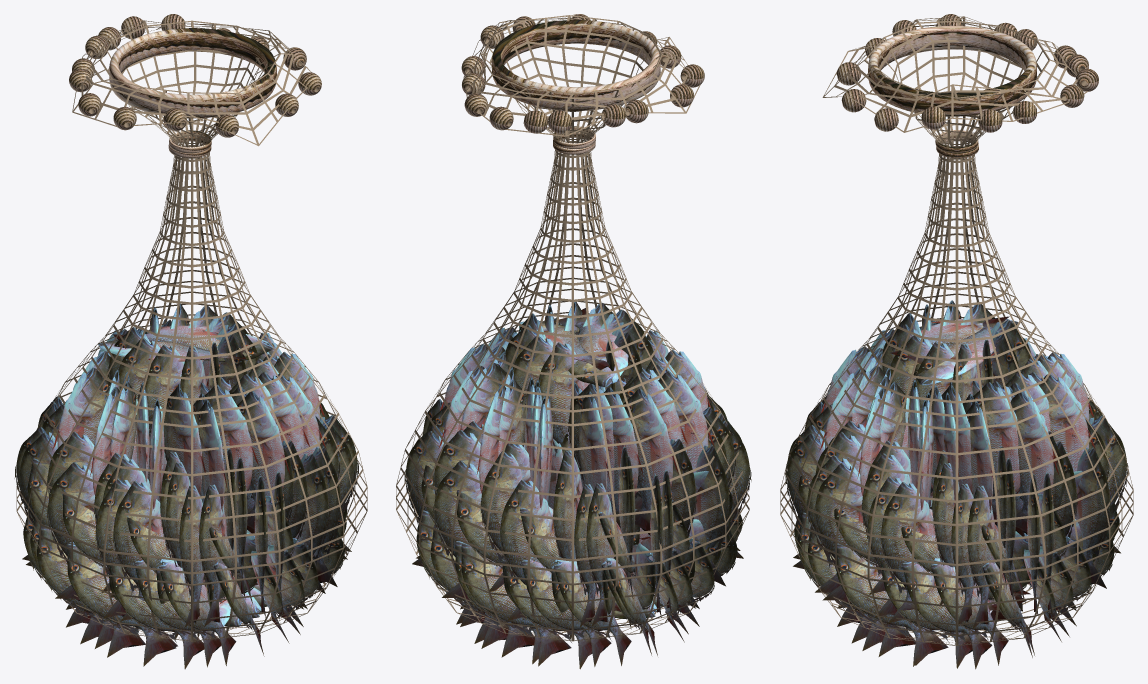
The model's file is fishing_net_iii_v2.glb.
3 views of the same model, side by side, from view 1: azimuth 30°, elevation 25°; view 2: azimuth 150°, elevation 25°; view 3: azimuth 270°, elevation 25° (orthographic).
Visible parts, largest first — view 1: Object_3, Object_6, Object_4, Object_2, Object_5, Object_7; view 2: Object_3, Object_6, Object_2, Object_4, Object_5, Object_7; view 3: Object_3, Object_6, Object_2, Object_4, Object_5, Object_7.
Part boxes in pixels (box(x1,y1,x2,y2)): Object_3: box(14, 308, 358, 667); Object_6: box(16, 20, 367, 641); Object_4: box(23, 377, 346, 669); Object_2: box(73, 303, 346, 639); Object_5: box(109, 28, 276, 158); Object_7: box(69, 14, 321, 137); Object_3: box(404, 317, 751, 666); Object_6: box(396, 14, 749, 641); Object_2: box(417, 301, 731, 657); Object_4: box(421, 404, 742, 669); Object_5: box(491, 20, 660, 154); Object_7: box(461, 14, 704, 133); Object_3: box(785, 320, 1128, 669); Object_6: box(780, 16, 1133, 645); Object_2: box(852, 300, 1107, 668); Object_4: box(794, 381, 1119, 665); Object_5: box(868, 25, 1036, 158); Object_7: box(836, 14, 1098, 132).
Bounding box in the file's own units: 2.89 × 5.23 × 2.89.
Materials: 2 (2 with a texture image).
